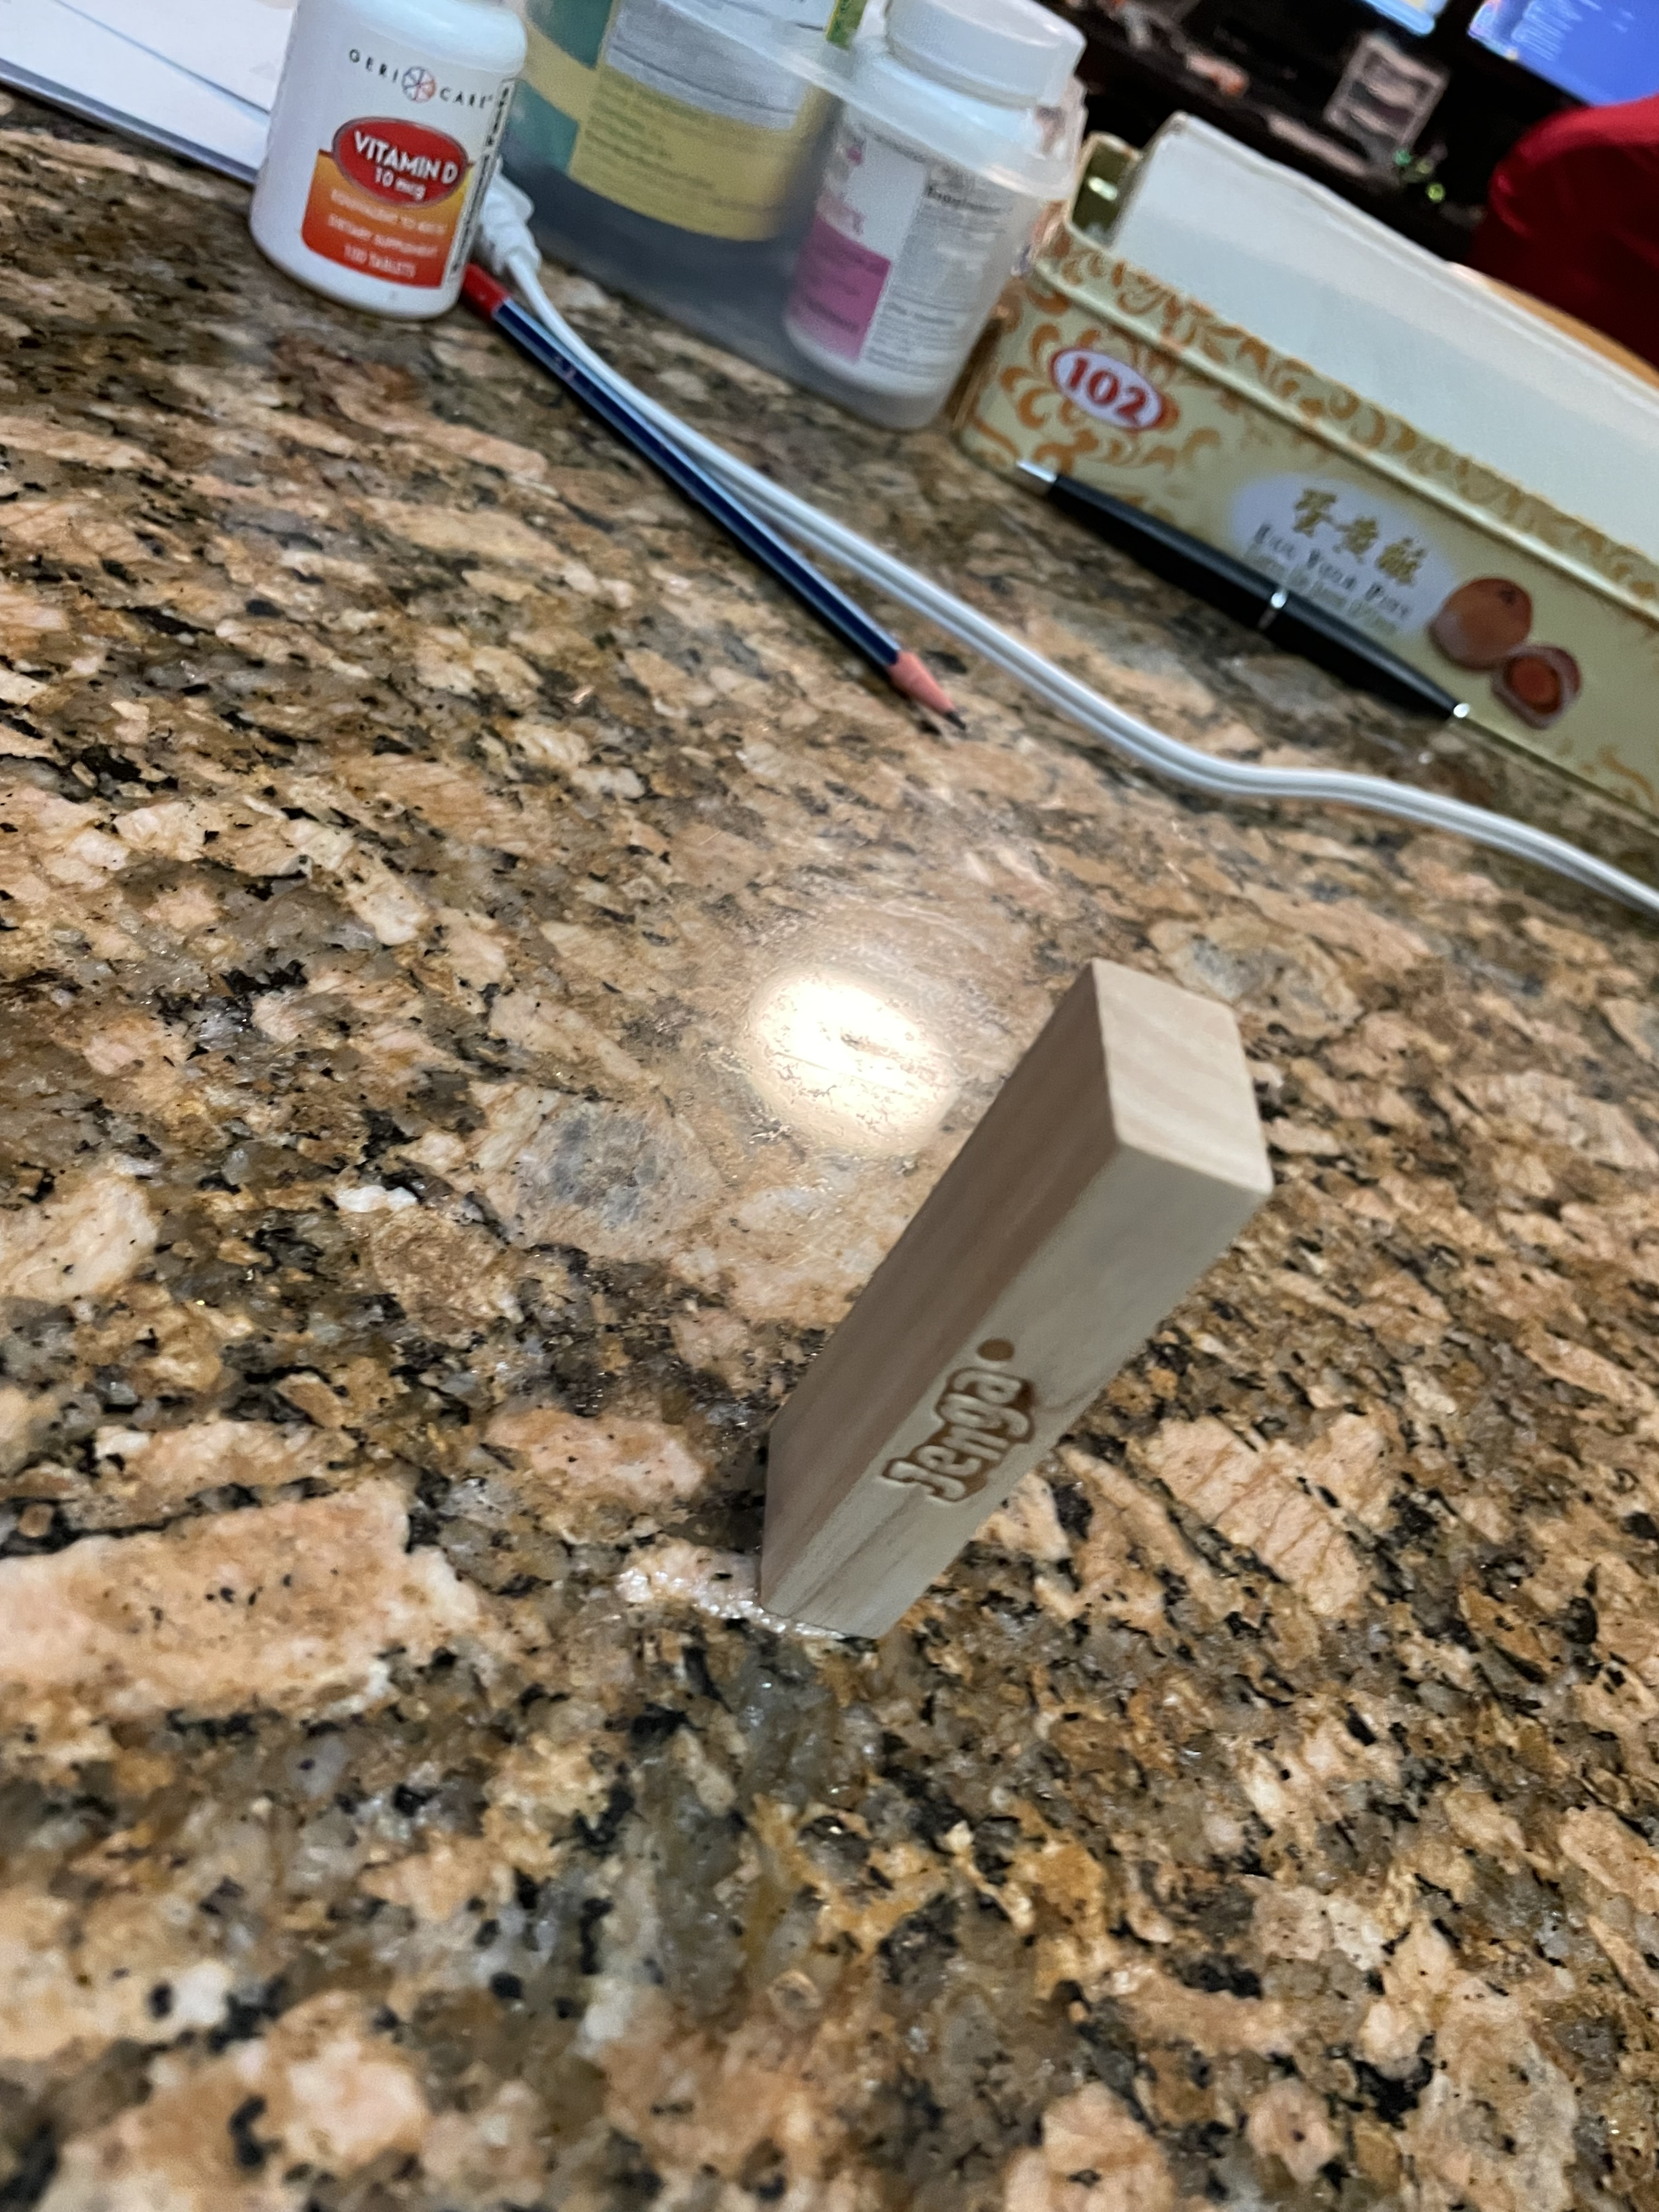jenga: (784, 918, 1274, 1648)
